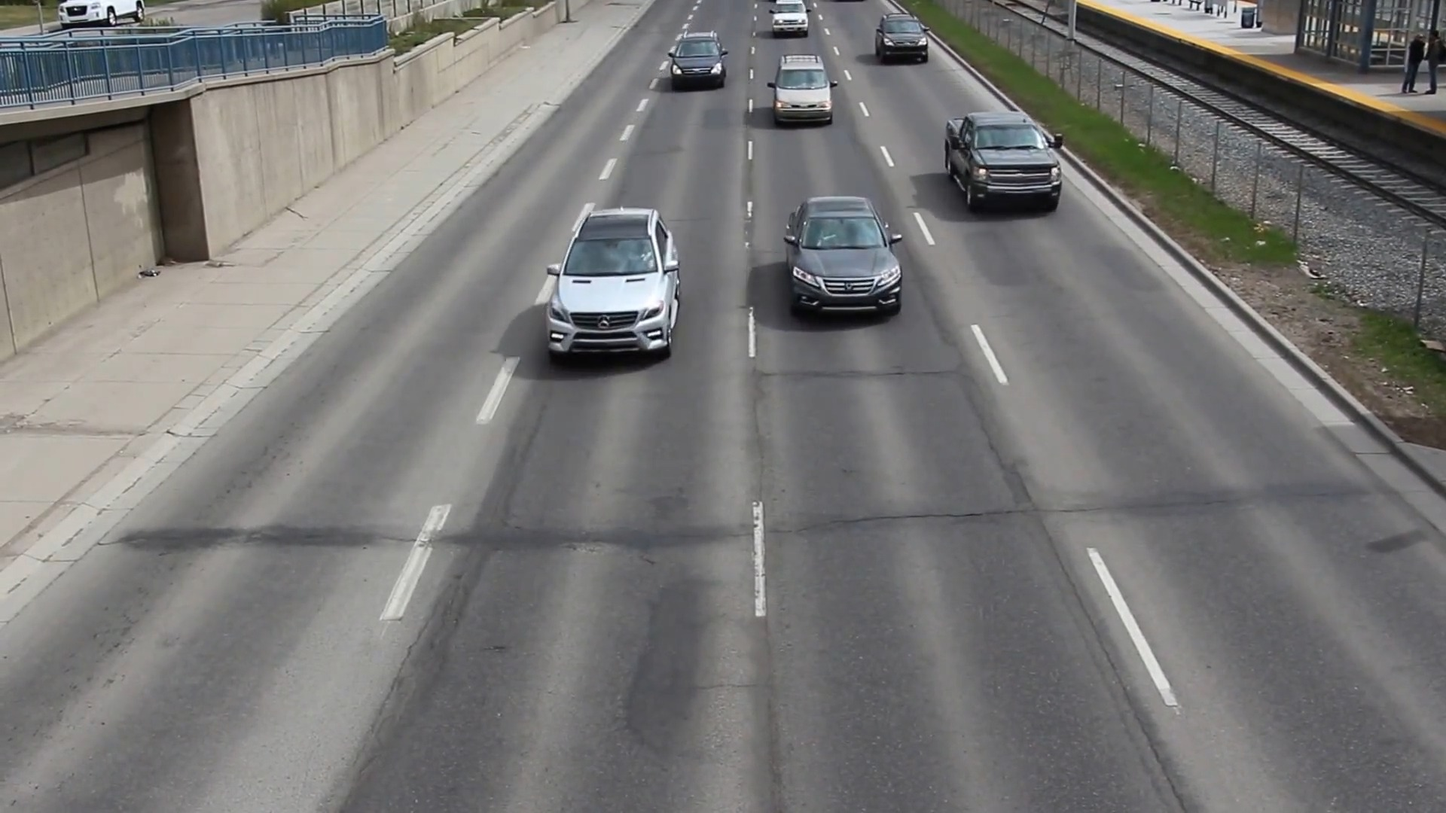car: (541, 202, 683, 365), (780, 189, 911, 324), (938, 102, 1069, 221), (765, 51, 838, 130)
